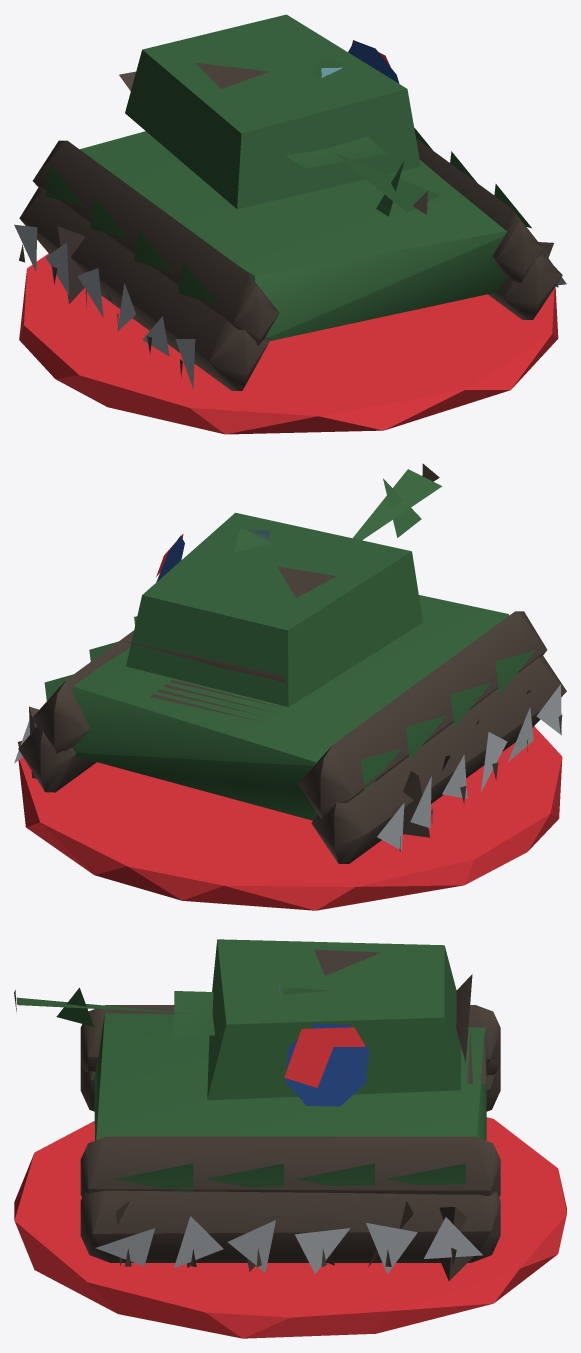
The model's file is south_korea_tank_lod1.glb.
3 views of the same model, one above another, from view 1: azimuth 30°, elevation 25°; view 2: azimuth 150°, elevation 25°; view 3: azimuth 270°, elevation 25° (orthographic). The views are drawn at different scales.
Visible parts, largest first — view 1: body_hull, base_pedestal; view 2: body_hull, base_pedestal; view 3: body_hull, base_pedestal.
Boxes of the visible parts, x1,y1,x2,y2 form: body_hull: (14, 14, 566, 390); base_pedestal: (19, 253, 558, 434); body_hull: (14, 463, 566, 863); base_pedestal: (18, 726, 562, 910); body_hull: (14, 939, 500, 1280); base_pedestal: (14, 1117, 566, 1338).
Bounding box in the file's own units: 0.7791 × 0.3988 × 0.7778.
